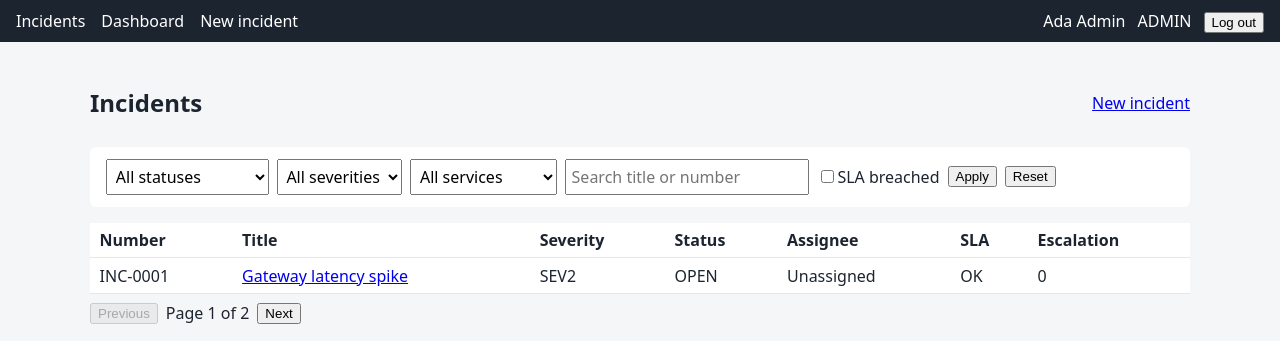
it: incident list › paginates with prev/next and reports the page
Expected: the text with test id "pagination-info" reads "Page 1 of 2", [166, 302, 249, 324]
Expected: the button with test id "pagination-prev" is disabled, [90, 303, 158, 324]
What coordinates should you click on to do the following:
click the button with test id "pagination-next"
I would click on:
 (279, 313)
Its box is [257, 303, 301, 324].
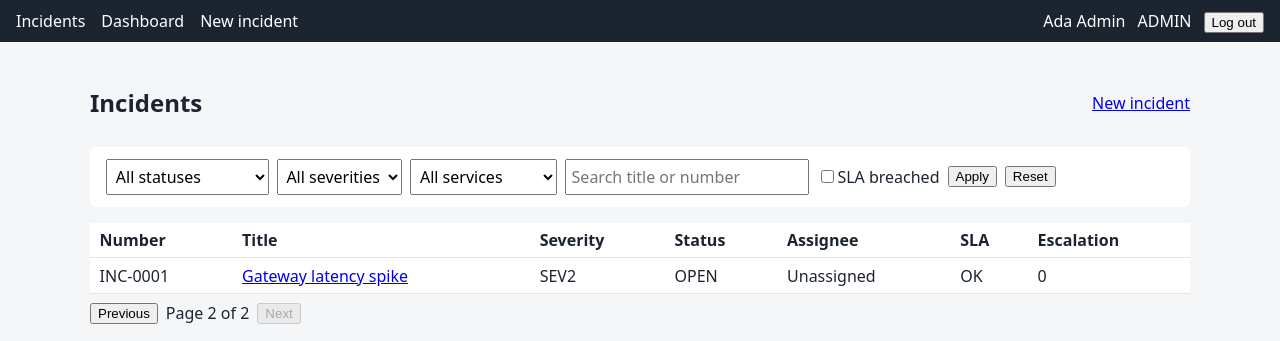
Result: the text "Page 2 of 2" is shown at [166, 302, 249, 324]
Result: the button with test id "pagination-next" is disabled at [257, 303, 301, 324]
